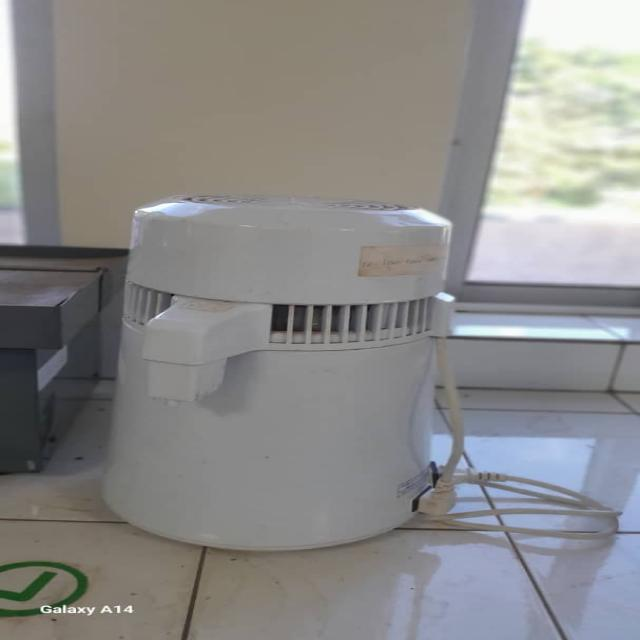Distilled Water Maker: (100, 187, 481, 554)
